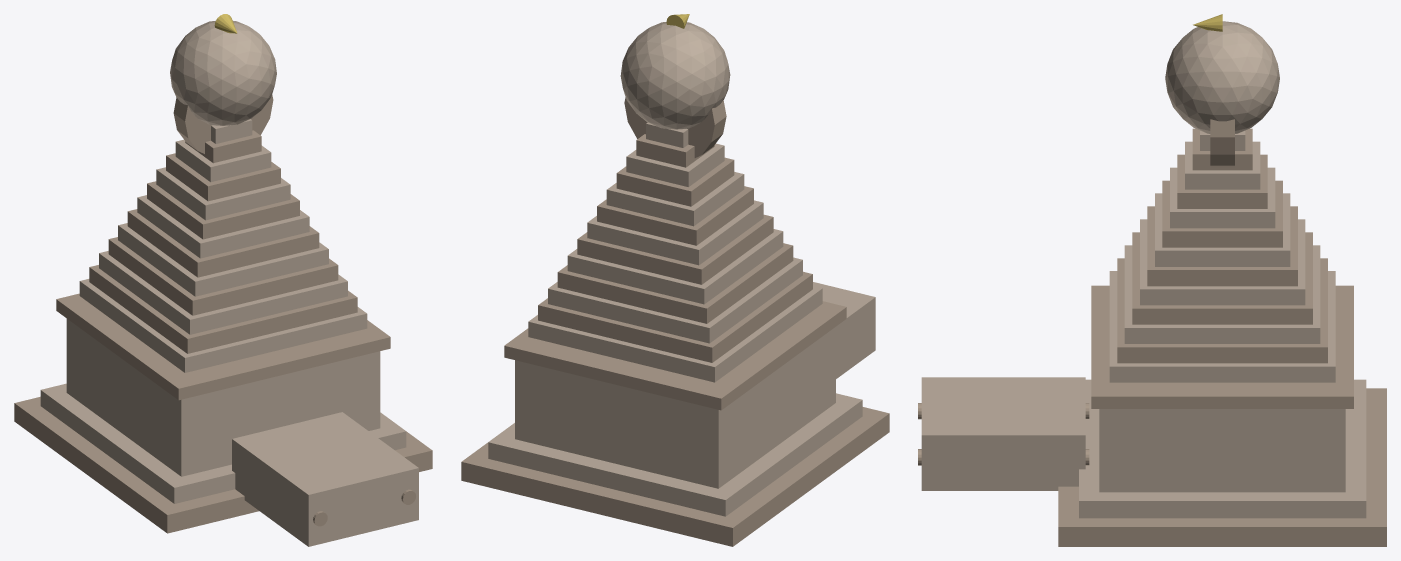
File: brihadeeshwara.glb
3 views of the same model, side by side, from view 1: azimuth 30°, elevation 25°; view 2: azimuth 150°, elevation 25°; view 3: azimuth 270°, elevation 25° (orthographic). The views are drawn at different scales.
Parts seen in each view (by area): view 1: geometry_2, geometry_21, geometry_3, geometry_18, geometry_0, geometry_1, geometry_4, geometry_5, geometry_6, geometry_7, geometry_8, geometry_9 (+8 smaller); view 2: geometry_2, geometry_0, geometry_1, geometry_3, geometry_18, geometry_4, geometry_5, geometry_6, geometry_7, geometry_8, geometry_9, geometry_10 (+8 smaller); view 3: geometry_2, geometry_21, geometry_0, geometry_1, geometry_3, geometry_18, geometry_4, geometry_5, geometry_6, geometry_7, geometry_8, geometry_9 (+7 smaller).
Part boxes in pixels (x1,y1,x2,y2): geometry_2: (66,318,380,476); geometry_21: (232,412,418,546); geometry_3: (56,293,390,400); geometry_18: (170,20,276,125); geometry_0: (14,396,432,533); geometry_1: (40,383,406,503); geometry_4: (79,279,367,372); geometry_5: (89,265,357,353); geometry_6: (99,251,347,334); geometry_7: (108,237,338,315); geometry_8: (118,223,328,296); geometry_9: (127,209,319,277); geometry_2: (515,327,835,488); geometry_0: (461,407,889,546); geometry_1: (488,393,862,516); geometry_3: (504,301,846,410); geometry_18: (620,22,730,129); geometry_4: (528,286,822,382); geometry_5: (538,271,812,362); geometry_6: (548,257,802,343); geometry_7: (557,243,793,323); geometry_8: (567,229,783,304); geometry_9: (577,214,773,284); geometry_10: (587,200,763,265); geometry_2: (1099,409,1345,492); geometry_21: (921,377,1085,490); geometry_0: (1058,388,1386,546); geometry_1: (1079,379,1366,518); geometry_3: (1091,285,1353,408); geometry_18: (1165,21,1279,133); geometry_4: (1109,271,1335,382); geometry_5: (1117,258,1327,363); geometry_6: (1124,245,1320,343); geometry_7: (1132,232,1312,324); geometry_8: (1140,219,1305,305); geometry_9: (1147,206,1297,286).
Size of the model in its own units: 24 by 37.3 by 34.25.
